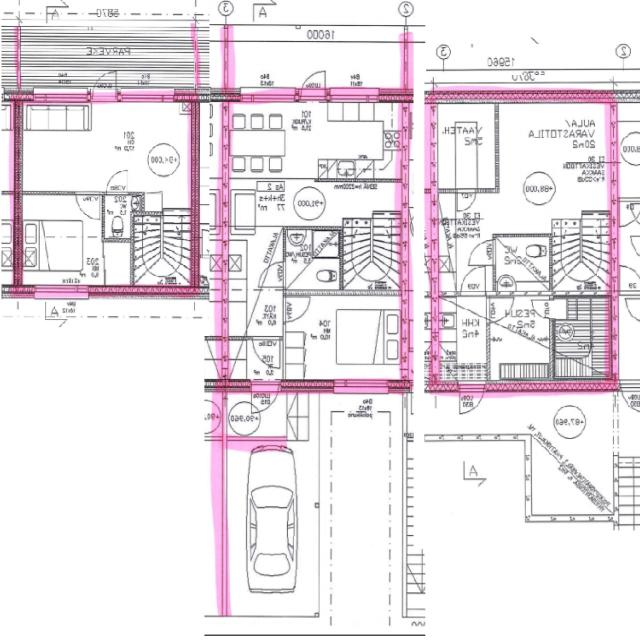door: (252, 380, 279, 421), (301, 64, 325, 102), (93, 63, 116, 102), (460, 381, 484, 417), (253, 336, 280, 368), (461, 265, 485, 296), (258, 261, 286, 287), (487, 297, 514, 323), (76, 191, 100, 220), (469, 240, 496, 265), (283, 297, 310, 321), (106, 168, 128, 195), (457, 188, 476, 212), (532, 300, 553, 318)
